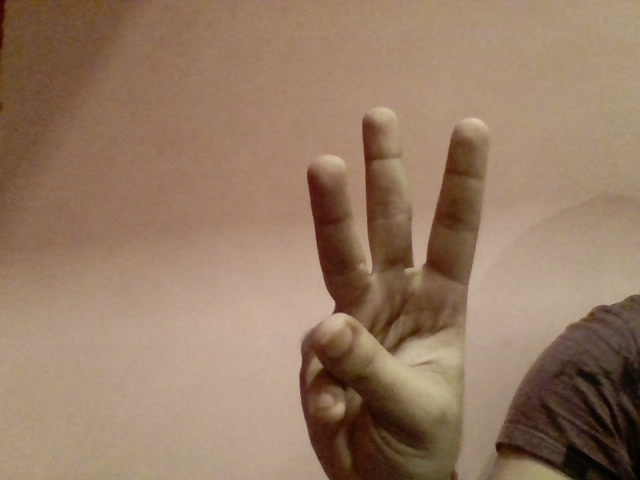w: (286, 98, 499, 480)
